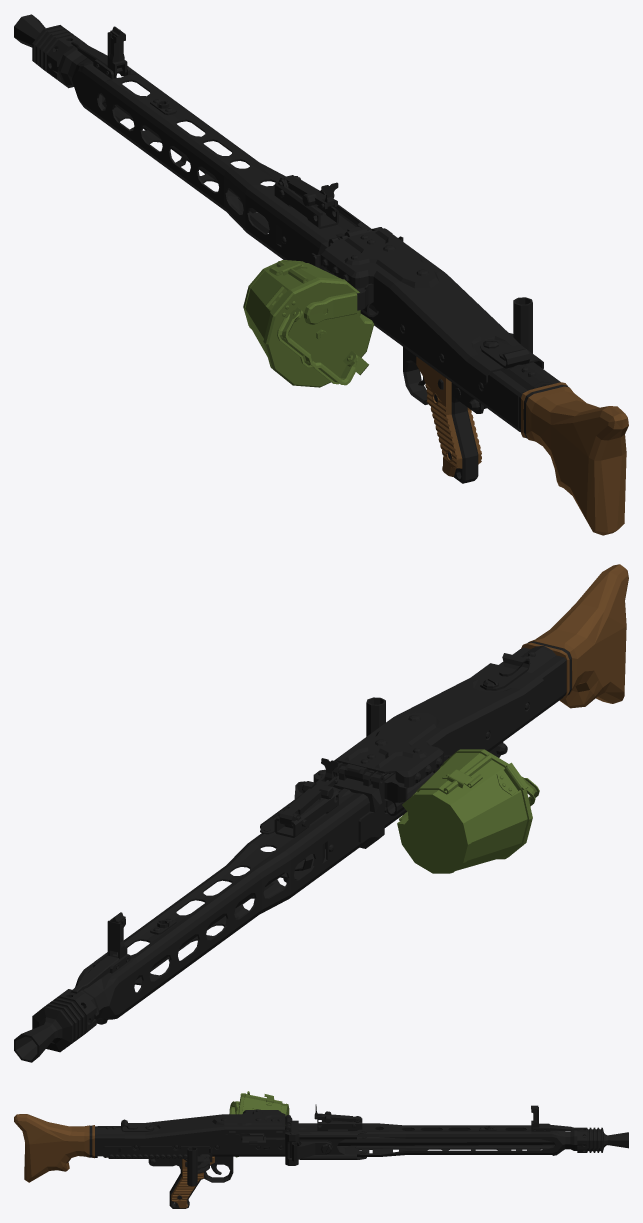
File: gpmg.glb
The picture shows the model from 3 angles, top to bottom: view 1: azimuth 30°, elevation 25°; view 2: azimuth 150°, elevation 25°; view 3: azimuth 270°, elevation 25°; orthographic projection. The views are drawn at different scales.
Visible parts, largest first — view 1: Body, Magazine; view 2: Body, Magazine; view 3: Body, Magazine.
Part boxes in pixels (x1,y1,x2,y2): Body: (14,14,628,535); Magazine: (243,260,374,387); Body: (14,564,628,1062); Magazine: (397,749,539,873); Body: (14,1104,628,1208); Magazine: (229,1091,289,1157).
Bounding box in the file's own units: 0.255 × 0.2218 × 1.22.
